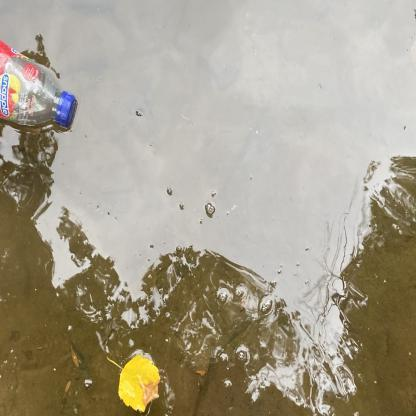trash: (0, 34, 81, 138)
